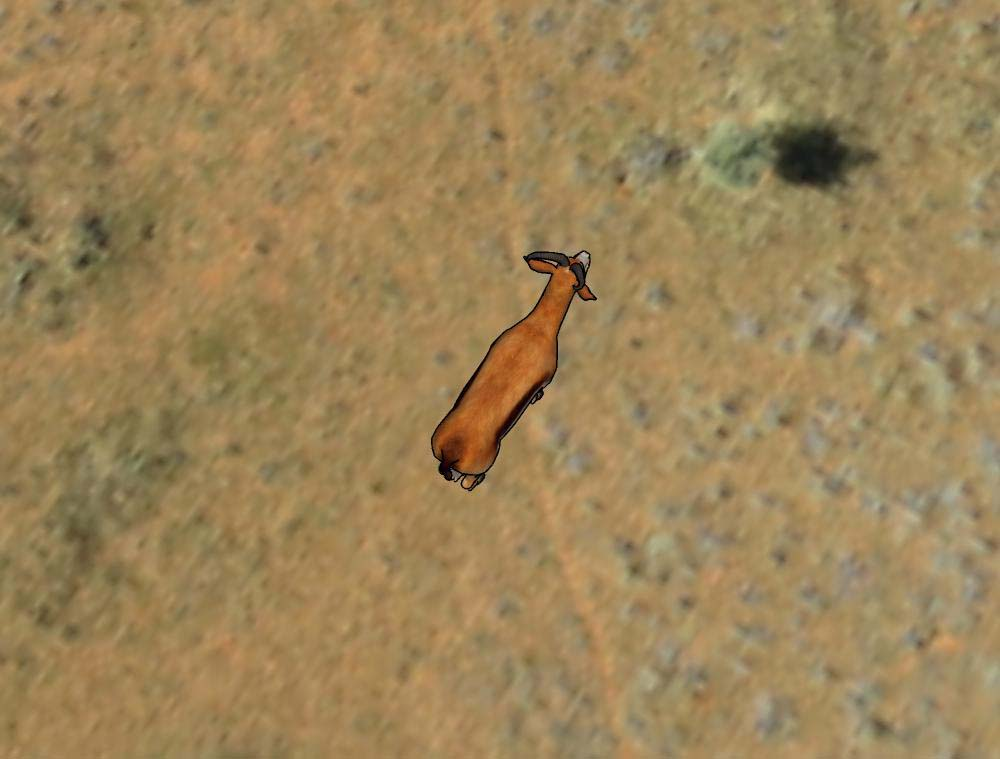springbok: (429, 244, 599, 496)
